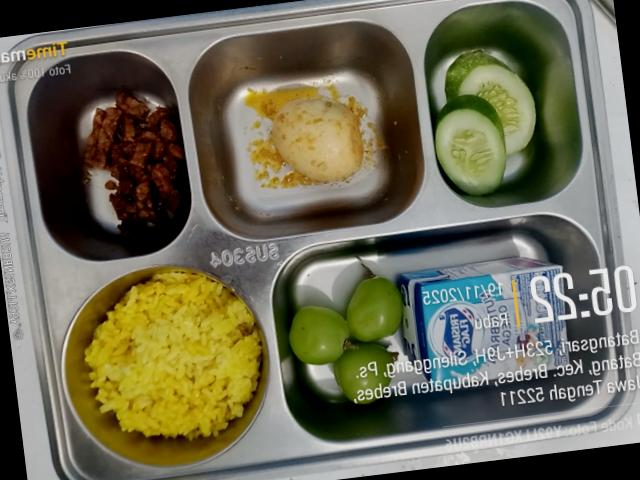buah: (289, 263, 402, 404)
nasi: (85, 272, 261, 439)
sayur: (435, 50, 536, 195)
susu: (397, 257, 568, 384)
telur: (271, 99, 363, 181)
tempe: (84, 92, 184, 234)
